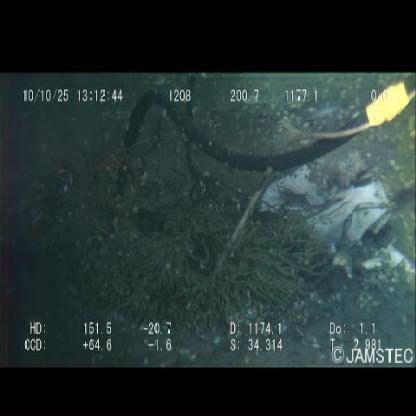Rác: (258, 150, 415, 283)
